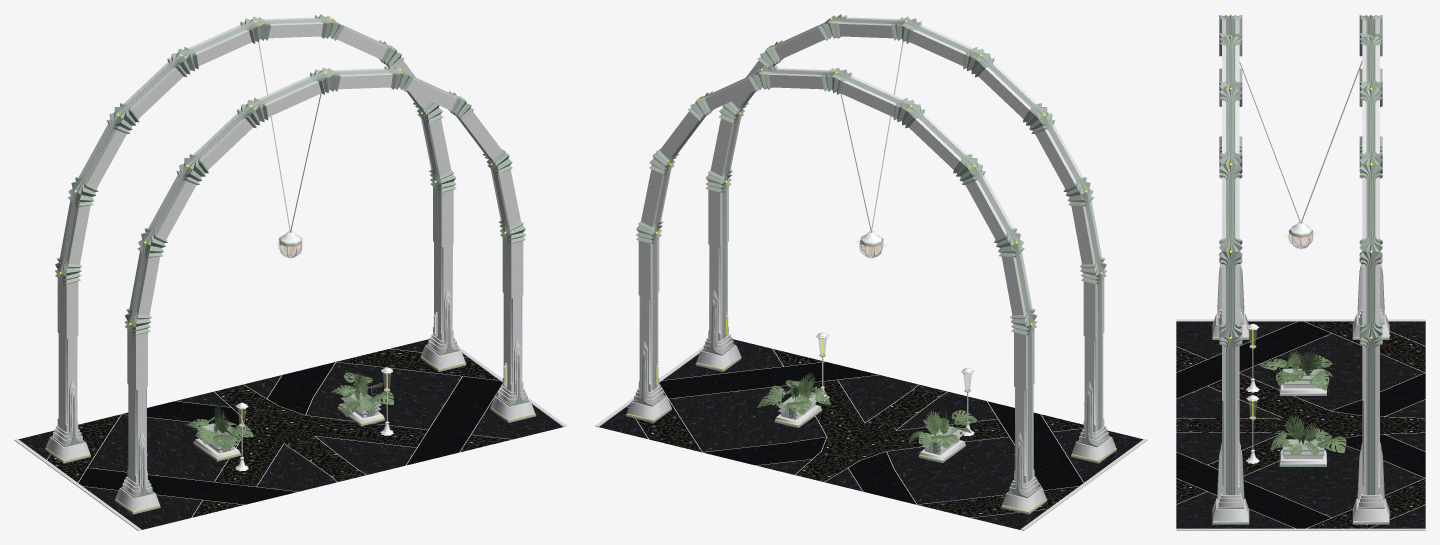
The model's file is structure2.glb.
The picture shows the model from 3 angles, left to right: view 1: azimuth 30°, elevation 25°; view 2: azimuth 150°, elevation 25°; view 3: azimuth 270°, elevation 25°; orthographic projection.
Parts seen in each view (by area): view 1: StreetA.007, StreetA.006, collumnSection1.001, Screen10.016, collumnSection1.022, collumnSection1.023, collumnSection1.021, collumnSection1.020, collumnSection1.024, collumnSection1.025, collumnSection1.019, collumnSection1.018 (+9 smaller); view 2: StreetA.007, StreetA.006, collumnSection1.001, Screen10.016, collumnSection1.023, collumnSection1.022, collumnSection1.020, collumnSection1.021, collumnSection1.025, collumnSection1.024, collumnSection1.018, collumnSection1.019 (+9 smaller); view 3: StreetA.006, StreetA.007, collumnSection1.001, Screen10.016, collumnSection1.014, collumnSection1.011, collumnSection1.010, collumnSection1.003, collumnSection1.004, collumnSection1.012, collumnSection1.013, Plane (+11 smaller).
Boxes of the visible parts, x1,y1,x2,y2 form: StreetA.007: (229,339,562,478); StreetA.006: (19,388,351,529); collumnSection1.001: (45,178,535,514); Screen10.016: (51,289,529,498); collumnSection1.022: (71,112,132,196); collumnSection1.023: (141,163,202,247); collumnSection1.021: (184,104,259,176); collumnSection1.020: (114,53,190,125); collumnSection1.024: (55,188,94,275); collumnSection1.025: (125,239,163,326); collumnSection1.019: (247,69,329,122); collumnSection1.018: (177,18,259,71); StreetA.007: (599,339,932,478); StreetA.006: (810,388,1142,529); collumnSection1.001: (626,178,1116,514); Screen10.016: (632,289,1110,498); collumnSection1.023: (1029,112,1090,196); collumnSection1.022: (959,163,1020,247); collumnSection1.020: (902,104,977,176); collumnSection1.021: (971,53,1047,125); collumnSection1.025: (1067,188,1106,275); collumnSection1.024: (998,239,1036,326); collumnSection1.018: (832,69,914,122); collumnSection1.019: (902,18,984,71); StreetA.006: (1176,321,1425,425); StreetA.007: (1176,425,1425,528); collumnSection1.001: (1212,151,1389,524); Screen10.016: (1217,263,1384,508); collumnSection1.014: (1279,368,1326,466); collumnSection1.011: (1219,164,1242,251); collumnSection1.010: (1359,164,1382,251); collumnSection1.003: (1359,251,1382,337); collumnSection1.004: (1219,251,1242,337); collumnSection1.012: (1359,88,1382,167); collumnSection1.013: (1219,88,1242,167); Plane: (1176,319,1425,530).
Bounding box in the file's own units: 32 × 27.92 × 16.
11 materials, 7 textured.
